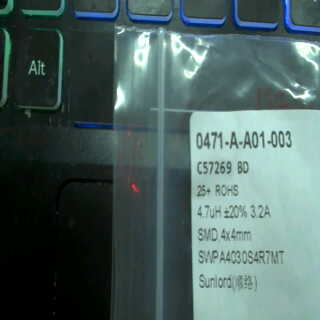4.7uH: (193, 202, 222, 220)
